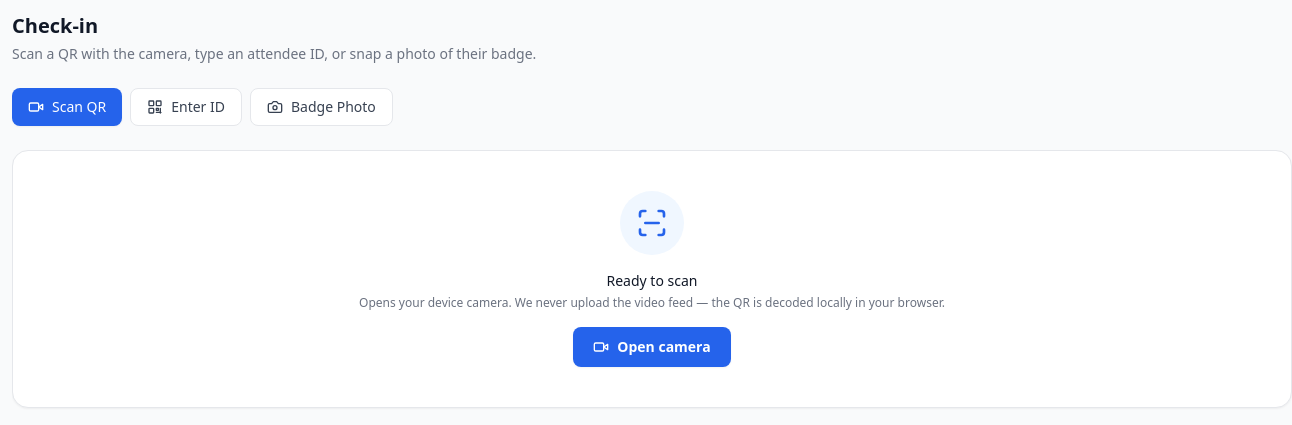
Scenario: <CheckIn /> › submits the typed attendee ID in Enter ID mode
The width and height of the screenshot is (1292, 425).
Click the tab "Enter ID" at (186, 107), box [130,88,242,126]
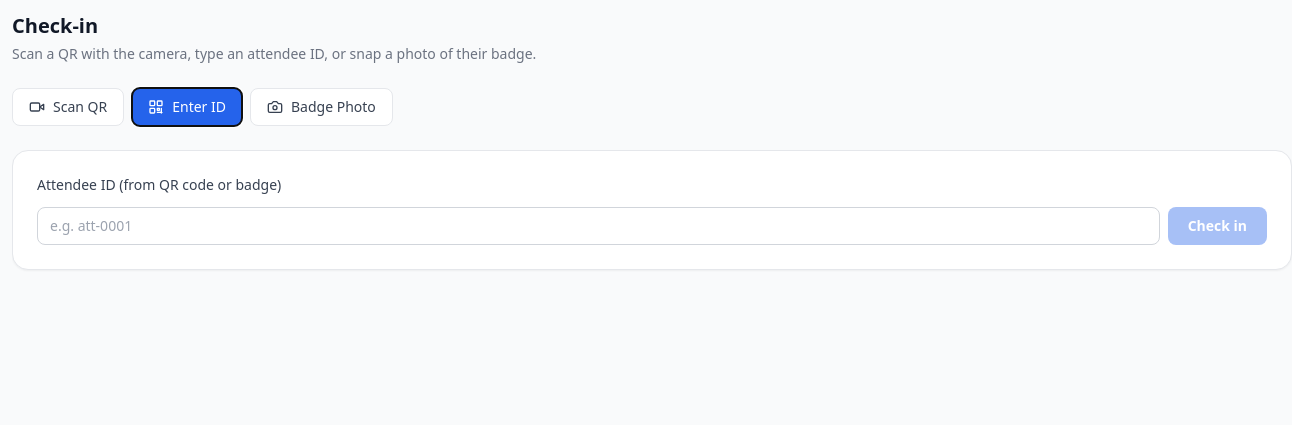
Type "att-0007" into the field labelled "Attendee ID (from QR code or badge)" at (598, 226), box [37,207,1160,245]
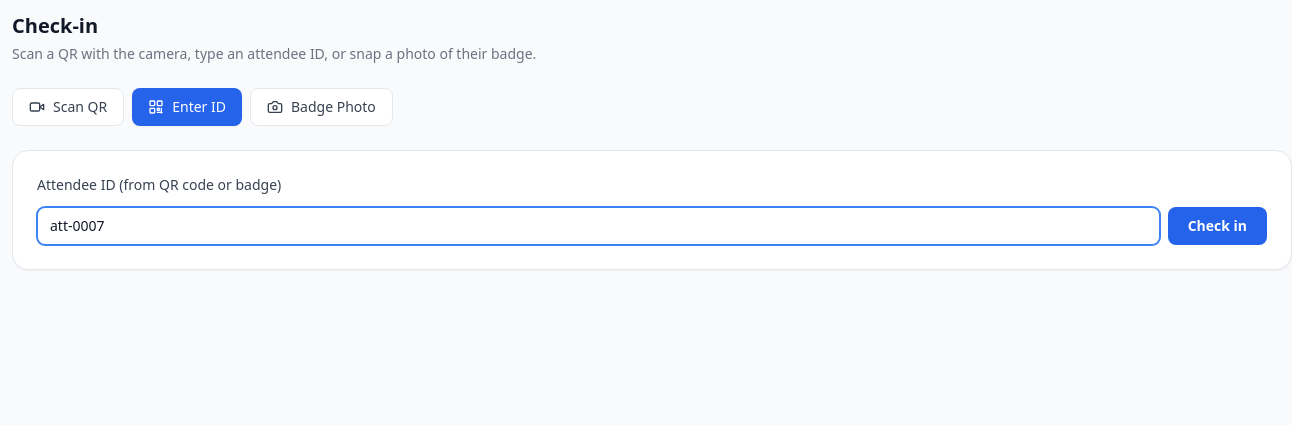
Click the button "Check in" at (1217, 226), box [1168,207,1267,245]
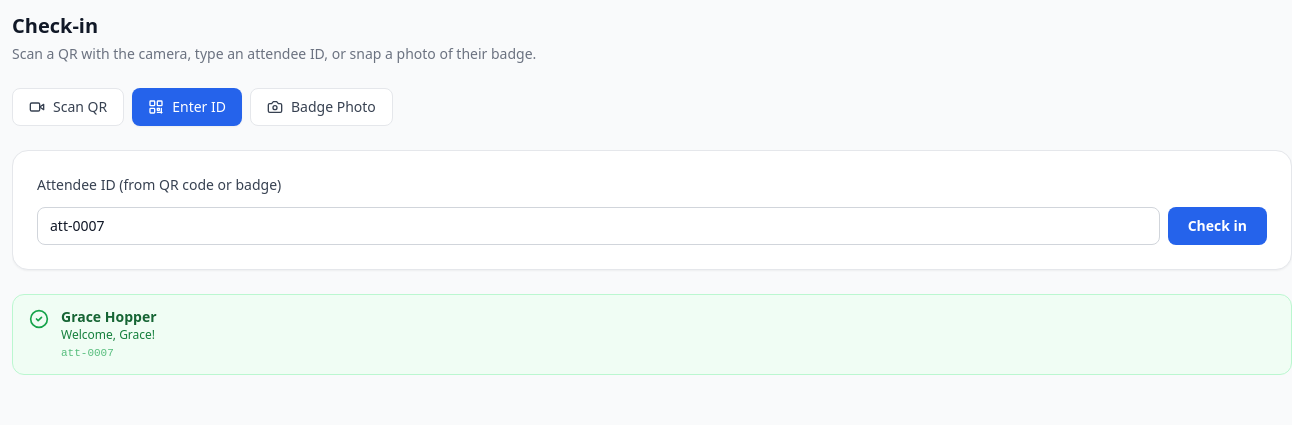
Expected: the text "Welcome, Grace!" is shown, [61,327,156,343]
